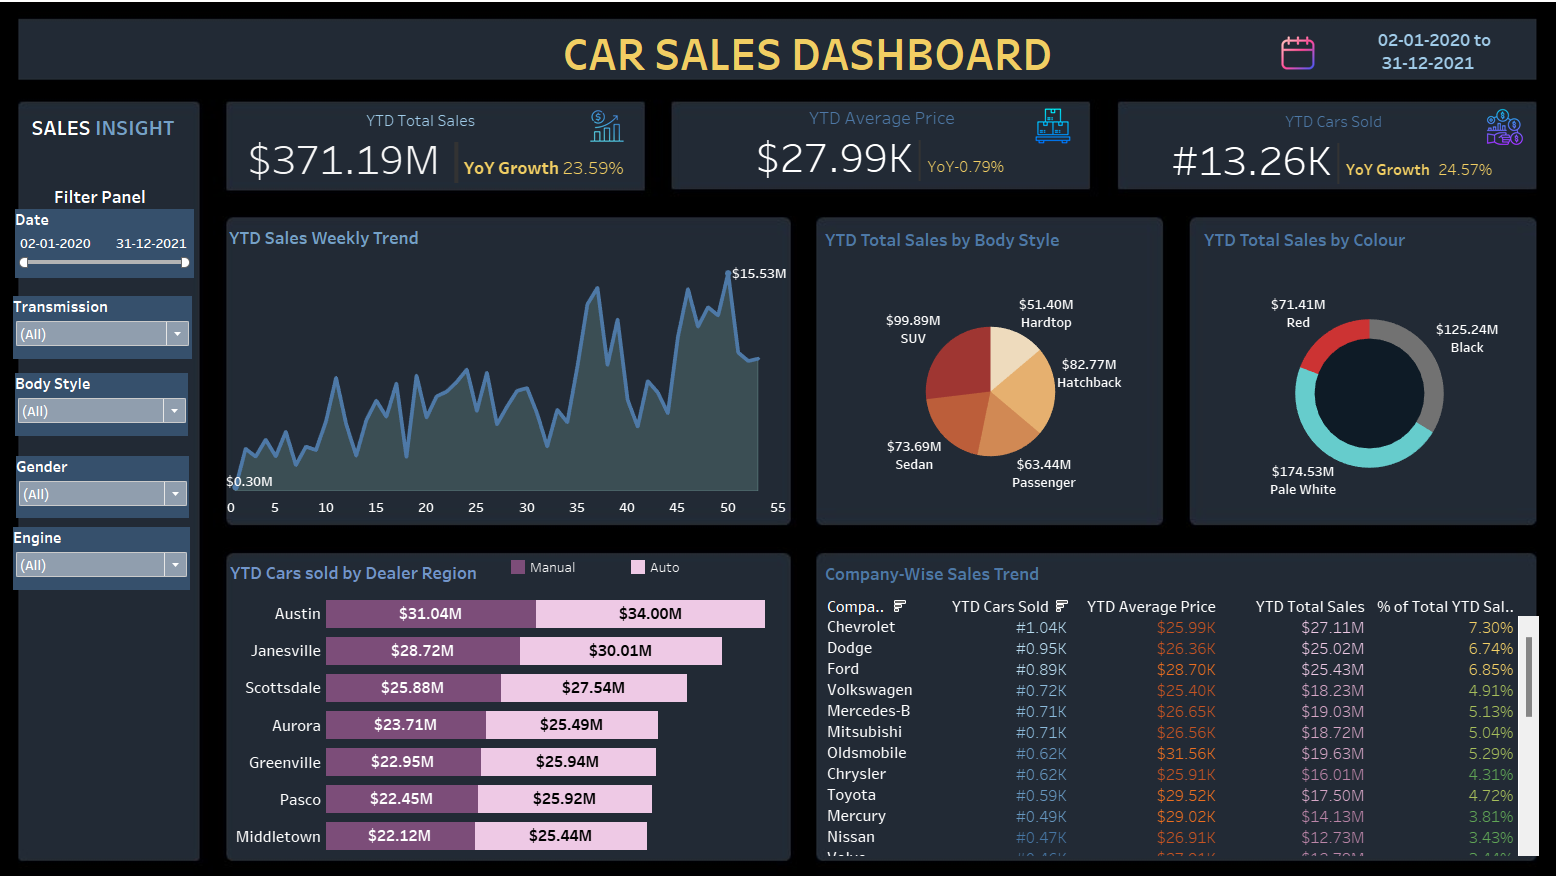

This screenshot's page, from the dashboard's own definition file:
{"tool":"tableau","page":{"name":"Dashboard 1","canvas":[1600,900],"ordinal":0},"visuals":[{"type":"image","param":"E:/Desktop/New CV/Tableau Portfolio Projects/Car Sales Dashbboard/Car Sales Back","box":[8,8,1584,884]},{"type":"worksheet","title":"Date Range","mark":"Automatic","box":[1337.1,32.6,225.1,55.1]},{"type":"text","box":[521.1,41.6,617.1,40.5]},{"type":"image","param":"E:/Desktop/New CV/Tableau Portfolio Projects/Car Sales Dashbboard/Images Used/ca","box":[1289.1,43.9,61.7,37.1]},{"type":"worksheet","title":"YTD Average Price","mark":"Automatic","box":[696,112,412,86]},{"type":"worksheet","title":"YTD Total Sales","mark":"Automatic","box":[245.7,115.9,416,83.2]},{"type":"image","param":"E:/Desktop/New CV/Tableau Portfolio Projects/Car Sales Dashbboard/Images Used/Sa","box":[597.7,117,61.7,37.1]},{"type":"image","param":"E:/Desktop/New CV/Tableau Portfolio Projects/Car Sales Dashbboard/Images Used/Av","box":[1044,117,61,37]},{"type":"image","param":"E:/Desktop/New CV/Tableau Portfolio Projects/Car Sales Dashboard.twb Files/Users","box":[1049.1,117,61.7,37.1]},{"type":"worksheet","title":"YTD Cars Sold","mark":"Automatic","box":[1146.3,118.1,414.9,82.1]},{"type":"image","param":"E:/Desktop/New CV/Tableau Portfolio Projects/Car Sales Dashbboard/Images Used/Ca","box":[1496,118.1,61.7,37.1]},{"type":"text","box":[37.7,120.4,173.7,33.8]},{"type":"text","box":[35.4,189,173.7,33.8]},{"type":"filter","title":"YTD Sales Weekly Trend","param":"[federated.0vbg0070ksdvau1b86wcb10dnh6l].[none:Date:qk]","box":[36.6,219.4,179.4,68.6]},{"type":"worksheet","title":"YTD Sales Weekly Trend","mark":"Area","rows":["Calculation_2126613869706403840","Calculation_2126613869706403840"],"cols":["Date"],"box":[246.9,230.6,563.4,300.4]},{"type":"worksheet","title":"YTD Total Sales by Body Style","mark":"Pie","box":[843.4,232.9,339.4,298.1]},{"type":"worksheet","title":"YTD Total Sales by Colour","mark":"Pie","rows":["Calculation_2126613869727916048","Calculation_2126613869727948818"],"box":[1221.7,232.9,339.4,301.5]},{"type":"filter","title":"YTD Sales Weekly Trend","param":"[federated.0vbg0070ksdvau1b86wcb10dnh6l].[none:Transmission:nk]","box":[35.4,306,179.4,63]},{"type":"filter","title":"YTD Sales Weekly Trend","param":"[federated.0vbg0070ksdvau1b86wcb10dnh6l].[none:Body Style:nk]","box":[36.6,382.5,173.7,63]},{"type":"filter","title":"YTD Sales Weekly Trend","param":"[federated.0vbg0070ksdvau1b86wcb10dnh6l].[none:Gender:nk]","box":[37.7,465.7,173.7,61.9]},{"type":"filter","title":"YTD Sales Weekly Trend","param":"[federated.0vbg0070ksdvau1b86wcb10dnh6l].[none:Engine:nk]","box":[35.4,536.6,177.1,63]},{"type":"worksheet","title":"YTD Cars sold by Dealer Region","mark":"Automatic","rows":["Dealer_Region"],"cols":["Calculation_2126613869706403840"],"box":[248,565.9,561.1,299.2]},{"type":"legend","title":"YTD Cars sold by Dealer Region","param":"[federated.0vbg0070ksdvau1b86wcb10dnh6l].[none:Transmission:nk]","box":[530.3,567,277.7,29.2]},{"type":"worksheet","title":"Company-Wise Sales Trend","mark":"Automatic","rows":["Company"],"box":[843.4,567,717.7,299.2]}]}

Visuals, with their boxes in screenshot pixels (x1, y1, x2, y2), scaled from the page's 1600x900 canvas onto the 1556x876 screenshot:
image: bbox=(8, 8, 1548, 868)
"Date Range" worksheet: bbox=(1300, 32, 1519, 85)
text: bbox=(507, 40, 1107, 80)
image: bbox=(1254, 43, 1314, 79)
"YTD Average Price" worksheet: bbox=(677, 109, 1078, 193)
"YTD Total Sales" worksheet: bbox=(239, 113, 644, 194)
image: bbox=(581, 114, 641, 150)
image: bbox=(1015, 114, 1075, 150)
image: bbox=(1020, 114, 1080, 150)
"YTD Cars Sold" worksheet: bbox=(1115, 115, 1518, 195)
image: bbox=(1455, 115, 1515, 151)
text: bbox=(37, 117, 206, 150)
text: bbox=(34, 184, 203, 217)
"YTD Sales Weekly Trend" filter: bbox=(36, 214, 210, 280)
"YTD Sales Weekly Trend" worksheet (Area marks): bbox=(240, 224, 788, 517)
"YTD Total Sales by Body Style" worksheet (Pie marks): bbox=(820, 227, 1150, 517)
"YTD Total Sales by Colour" worksheet (Pie marks): bbox=(1188, 227, 1518, 520)
"YTD Sales Weekly Trend" filter: bbox=(34, 298, 209, 359)
"YTD Sales Weekly Trend" filter: bbox=(36, 372, 205, 434)
"YTD Sales Weekly Trend" filter: bbox=(37, 453, 206, 514)
"YTD Sales Weekly Trend" filter: bbox=(34, 522, 207, 584)
"YTD Cars sold by Dealer Region" worksheet: bbox=(241, 551, 787, 842)
"YTD Cars sold by Dealer Region" legend: bbox=(516, 552, 786, 580)
"Company-Wise Sales Trend" worksheet: bbox=(820, 552, 1518, 843)
